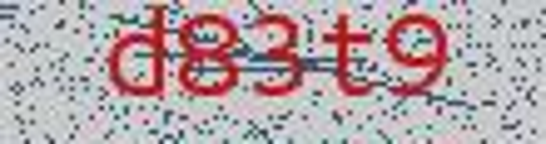3: (249, 7, 307, 110)
8: (174, 10, 245, 103)
9: (379, 4, 455, 104)
d: (103, 1, 170, 111)
t: (318, 9, 381, 103)
